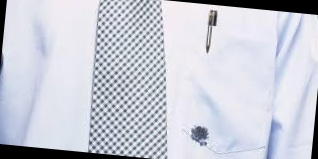ink: (189, 124, 210, 146)
